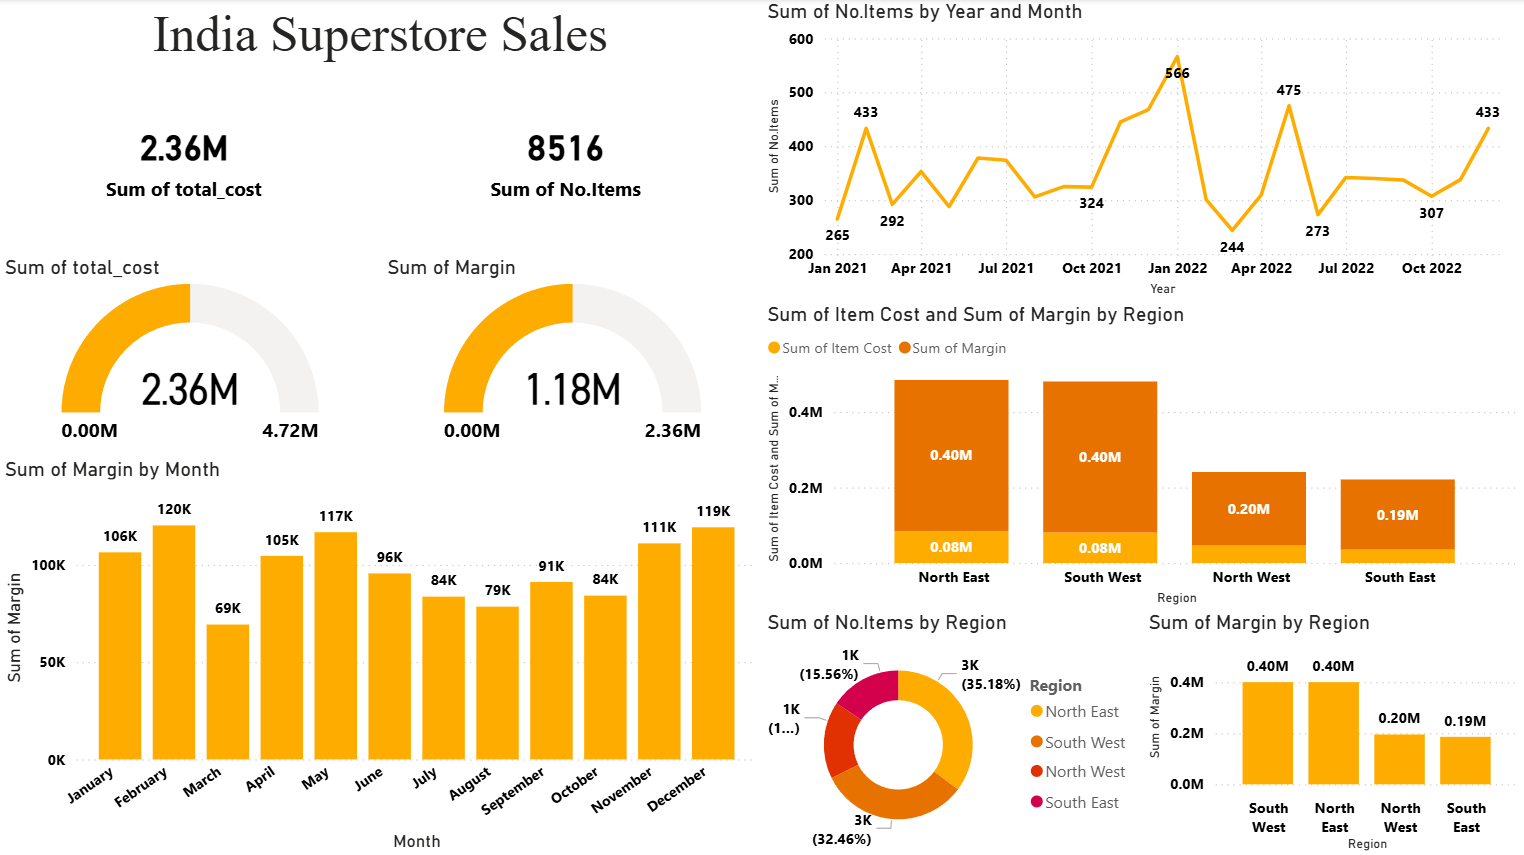

The page's visual inventory and layout, read from the dashboard file:
{"tool":"powerbi","page":{"name":"Page 1","canvas":[1280,720],"ordinal":0},"visuals":[{"type":"lineChart","fields":{"Y":["Sum(Raw_Data.No.Items)"],"Category":["Raw_Data.Date.Variation.Date Hierarchy.Year","Raw_Data.Date.Variation.Date Hierarchy.Month"]},"box":[639.5,0,640.8,253.9],"z":0},{"type":"columnChart","fields":{"Y":["Sum(Raw_Data.Item Cost)","Sum(Raw_Data.Margin)"],"Category":["Raw_Data.Region"]},"box":[639.5,253.5,640.7,259.3],"z":1000},{"type":"clusteredColumnChart","fields":{"Y":["Sum(Raw_Data.Margin)"],"Category":["Raw_Data.Region"]},"box":[959.3,512.8,320.9,207],"z":2000},{"type":"donutChart","fields":{"Y":["Sum(Raw_Data.No.Items)"],"Category":["Raw_Data.Region"]},"box":[639.5,512.8,319.8,207],"z":3000},{"type":"clusteredColumnChart","fields":{"Y":["Sum(Raw_Data.Margin)"],"Category":["Raw_Data.Date.Variation.Date Hierarchy.Month"]},"box":[0,383.7,640.7,336],"z":4000},{"type":"gauge","fields":{"Y":["Sum(Raw_Data.total_cost)"]},"box":[0,215.1,320.9,168.6],"z":5000},{"type":"gauge","fields":{"Y":["Sum(Raw_Data.Margin)"]},"box":[320.9,215.1,320.9,168.6],"z":6000},{"type":"textbox","box":[0,0,639.5,62.9],"z":7000},{"type":"card","fields":{"Values":["Sum(Raw_Data.total_cost)"]},"box":[0,53.5,310.5,161.6],"z":8000},{"type":"card","fields":{"Values":["Sum(Raw_Data.No.Items)"]},"box":[309.8,53.1,330.2,161.7],"z":9000}]}

Visuals, with their boxes in screenshot pixels (x1, y1, x2, y2), scaled from the page's 1280x720 canvas onto the 1524x855 screenshot:
lineChart - Sum(Raw_Data.No.Items) x Raw_Data.Date.Variation.Date Hierarchy.Year: [left=761, top=0, right=1523, bottom=302]
columnChart - Sum(Raw_Data.Item Cost) x Sum(Raw_Data.Margin): [left=761, top=301, right=1523, bottom=609]
clusteredColumnChart - Sum(Raw_Data.Margin) x Raw_Data.Region: [left=1142, top=609, right=1523, bottom=854]
donutChart - Sum(Raw_Data.No.Items) x Raw_Data.Region: [left=761, top=609, right=1142, bottom=854]
clusteredColumnChart - Sum(Raw_Data.Margin) x Raw_Data.Date.Variation.Date Hierarchy.Month: [left=0, top=456, right=763, bottom=854]
gauge - Sum(Raw_Data.total_cost): [left=0, top=255, right=382, bottom=456]
gauge - Sum(Raw_Data.Margin): [left=382, top=255, right=764, bottom=456]
textbox: [left=0, top=0, right=761, bottom=75]
card - Sum(Raw_Data.total_cost): [left=0, top=64, right=370, bottom=255]
card - Sum(Raw_Data.No.Items): [left=369, top=63, right=762, bottom=255]
